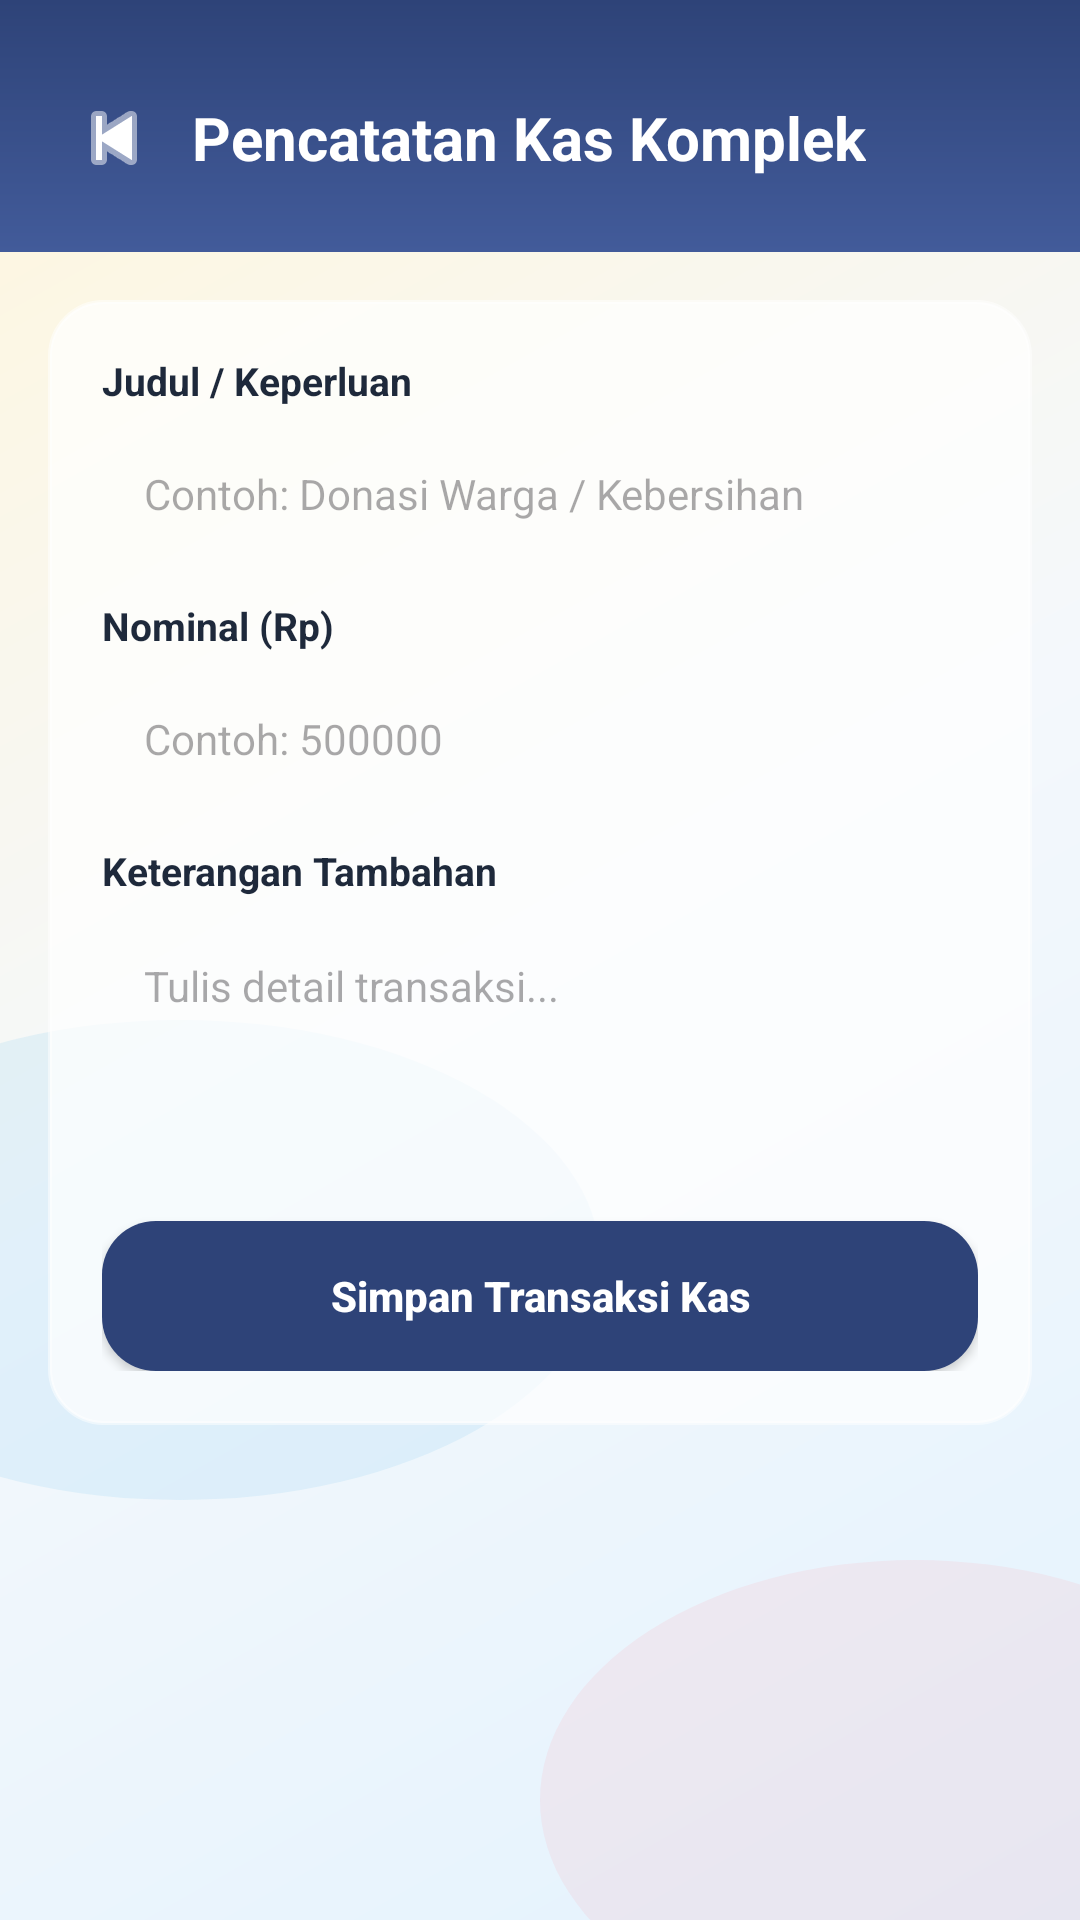

Named icons in this screenshot (1080px x 1920px) and their bounding boxes, [x1,y1,x2,y2]:
Kembali: [91,111,137,165]
